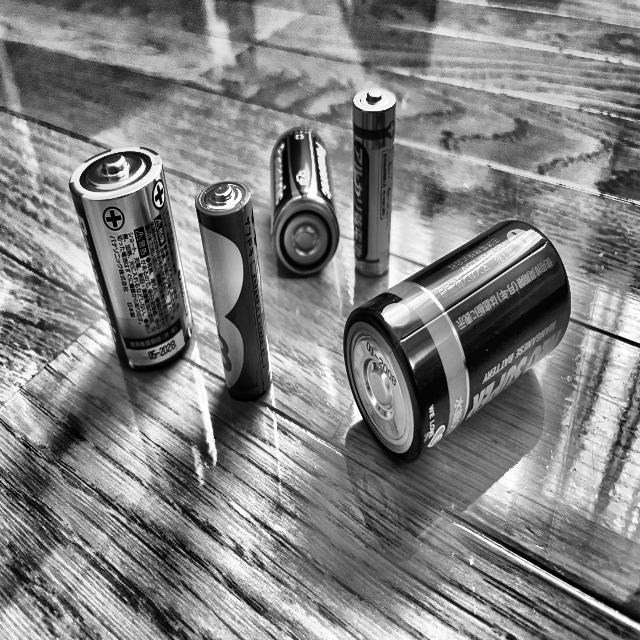drycell: (64, 136, 204, 385), (188, 170, 287, 413)
